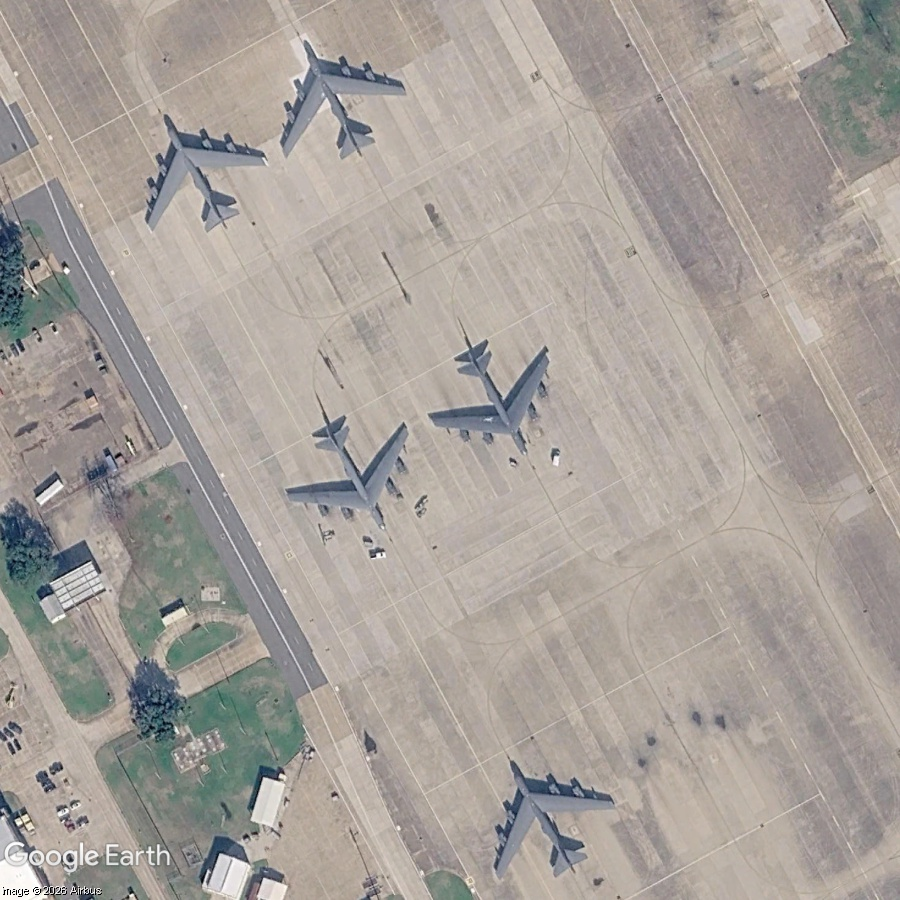Máy bay ném bom: (261, 386, 451, 568), (241, 8, 428, 190), (406, 314, 591, 493), (107, 90, 288, 263), (453, 733, 637, 900)
